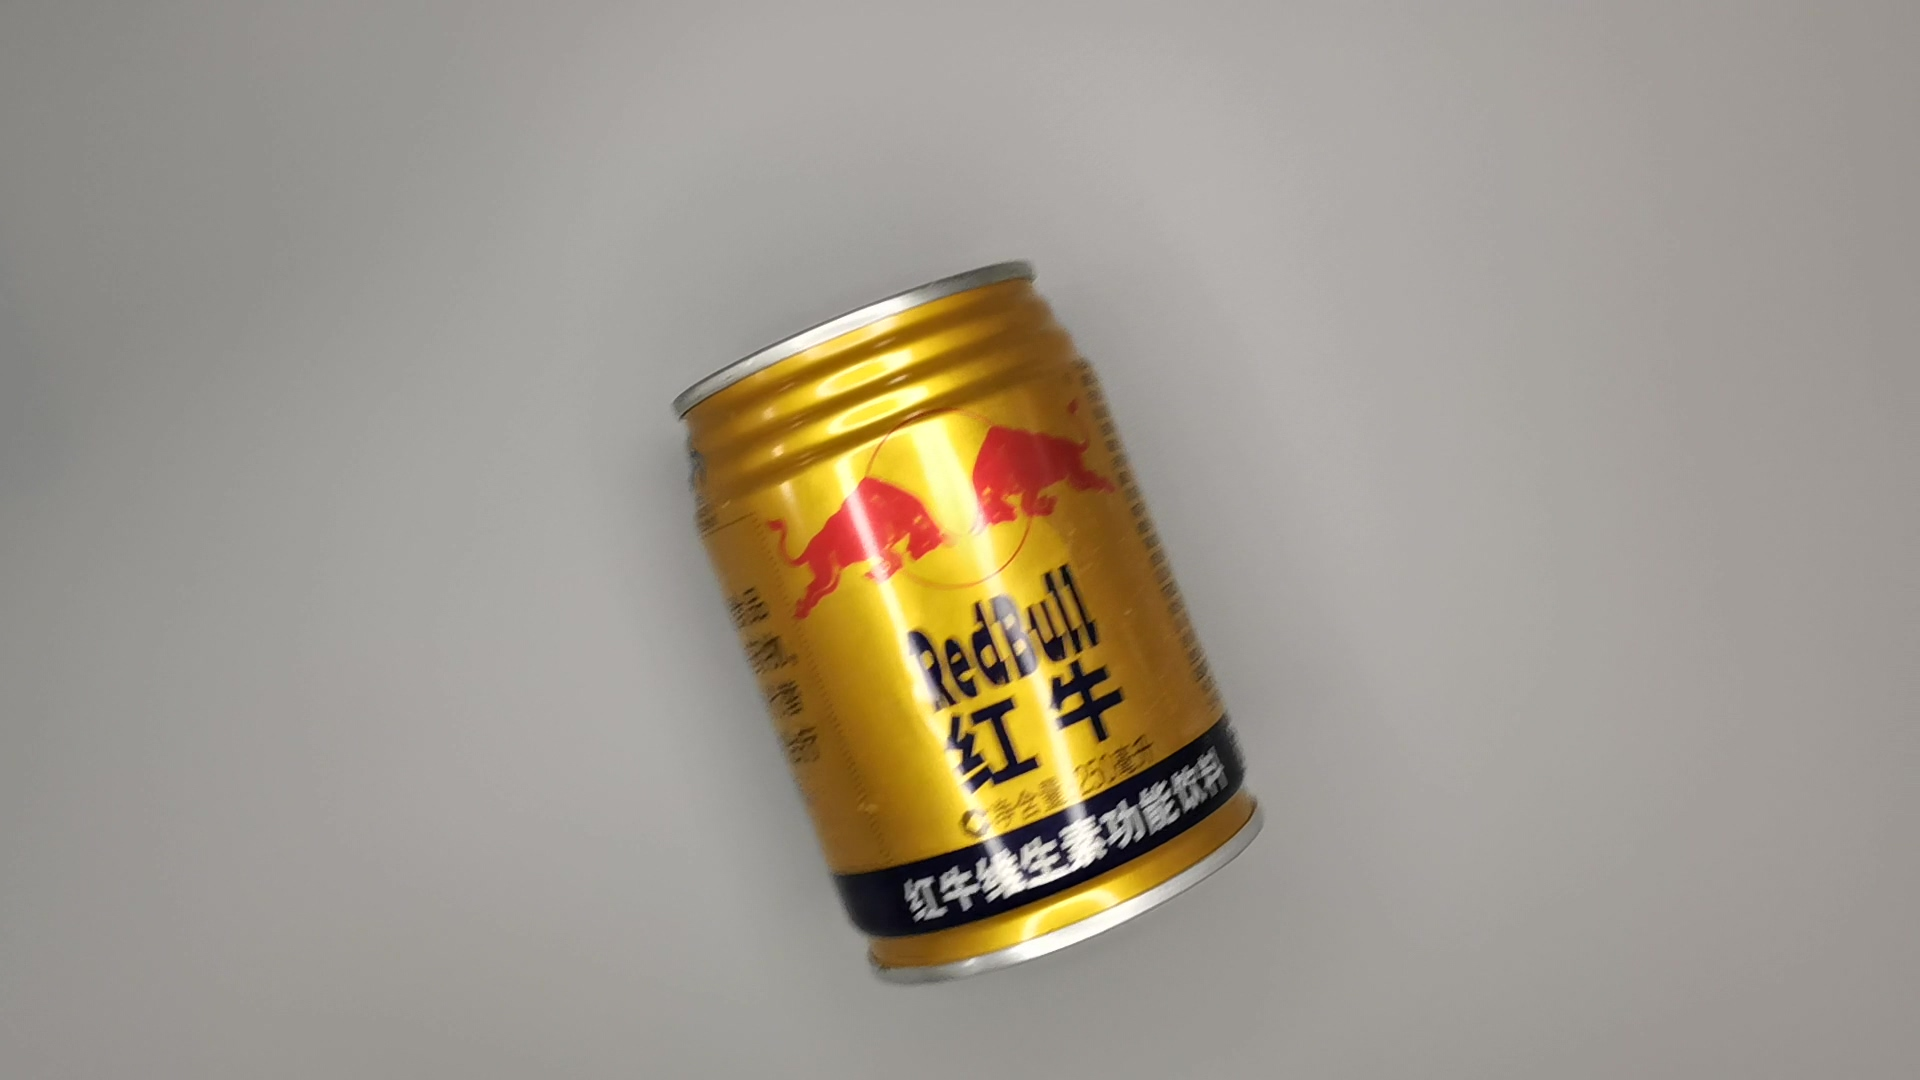can: (680, 252, 1266, 992)
